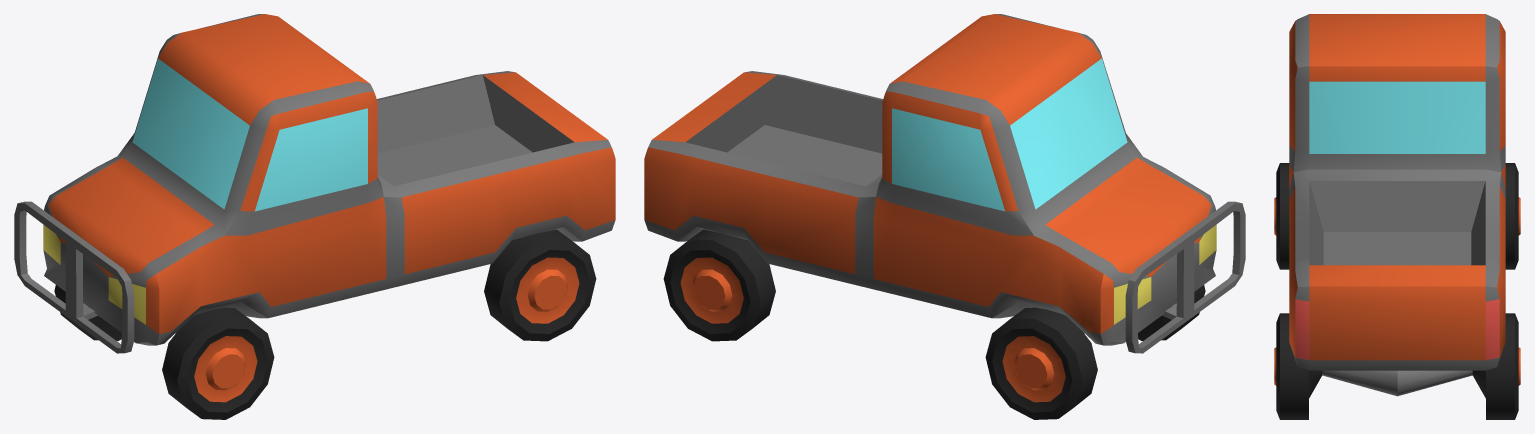
Rendered from car.fbx.
3 renders of one model, left to right at view 1: azimuth 30°, elevation 25°; view 2: azimuth 150°, elevation 25°; view 3: azimuth 270°, elevation 25°, orthographic. The views are drawn at different scales.
Visible parts, largest first — view 1: Cube; view 2: Cube; view 3: Cube.
Boxes of the visible parts, bbox=[...] form: Cube: bbox=[14, 14, 615, 419]; Cube: bbox=[644, 14, 1245, 419]; Cube: bbox=[1274, 14, 1520, 419].
Size of the model in its own units: 108 by 60.99 by 48.59.
